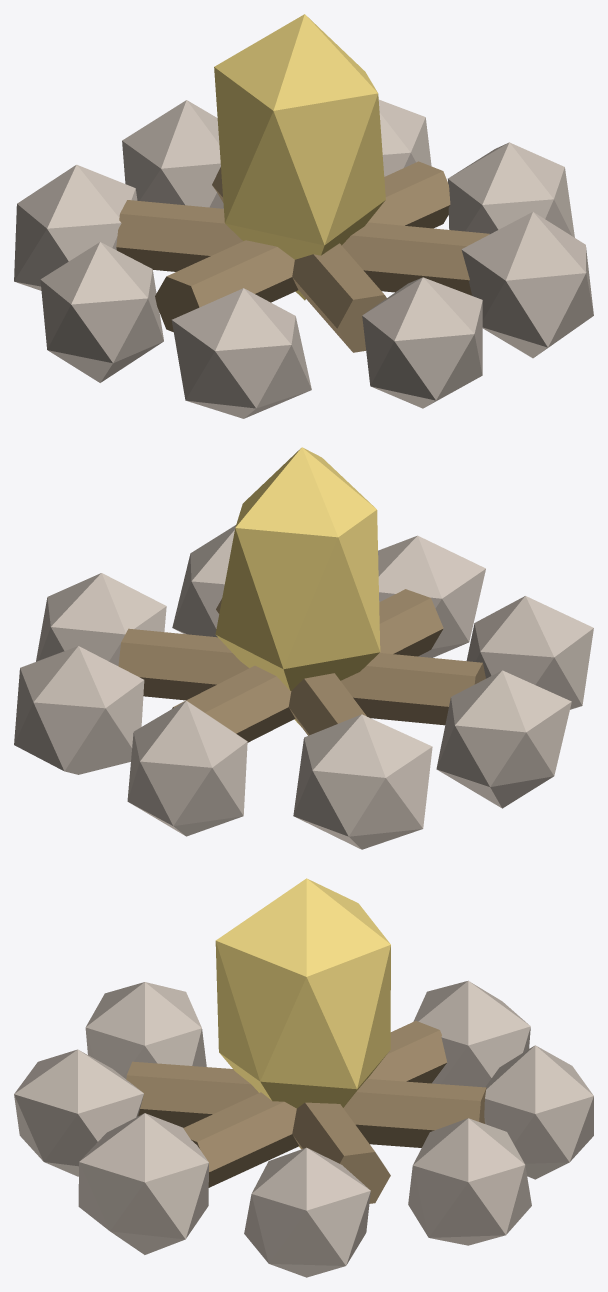
Rendered from campfire.glb.
3 views of the same model, one above another, from view 1: azimuth 30°, elevation 25°; view 2: azimuth 150°, elevation 25°; view 3: azimuth 270°, elevation 25° (orthographic). The views are drawn at different scales.
Parts seen in each view (by area): view 1: campfire; view 2: campfire; view 3: campfire.
Boxes of the visible parts, <box> form: campfire: <box>14,14,593,418</box>; campfire: <box>14,447,593,849</box>; campfire: <box>14,878,593,1277</box>.
Bounding box in the file's own units: 1.77 × 1.04 × 1.78.
